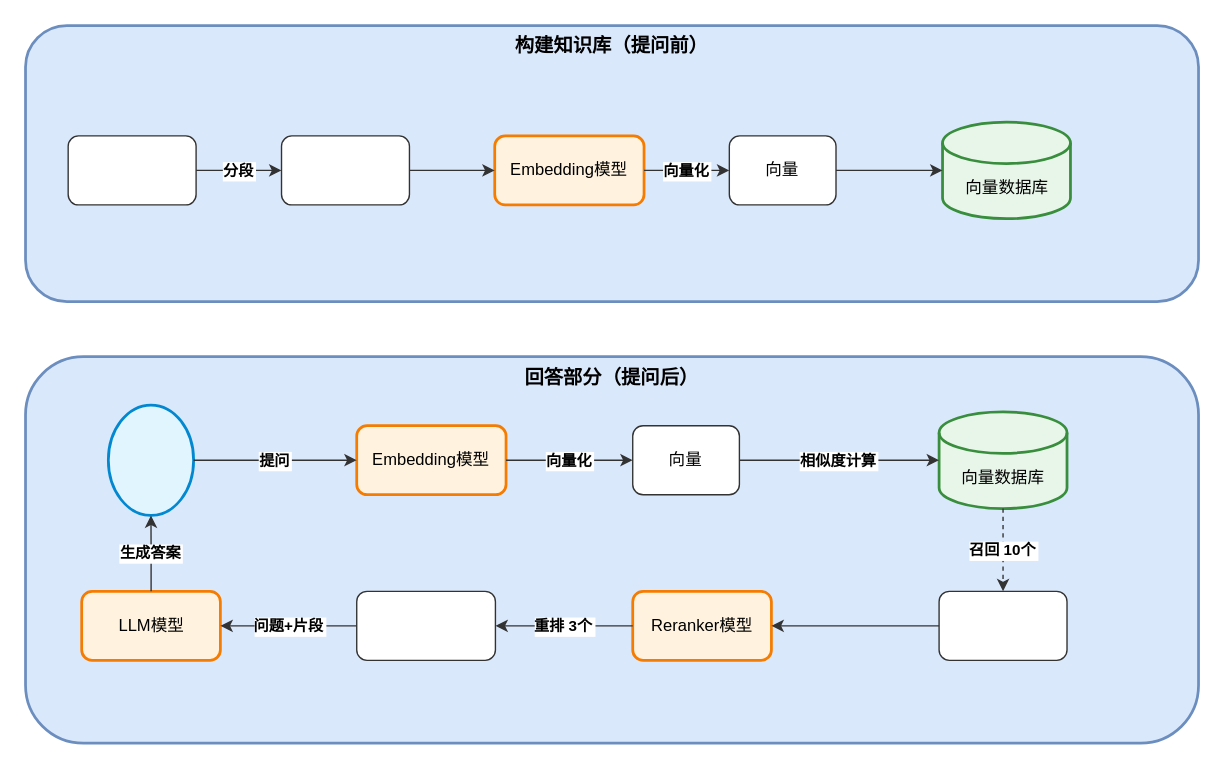
Some shapes in this 1223 by 767 pixel diagram are drawn without their labels. Here are the shapes that lost their labels. From the top down, the centre of each, then its label:
At point (131, 170): "故障手册".
At point (344, 170): "片段列表".
At point (150, 459): "用户".
At point (425, 625): "相关片段(3个)".
At point (1002, 625): "相关片段(10个)".
